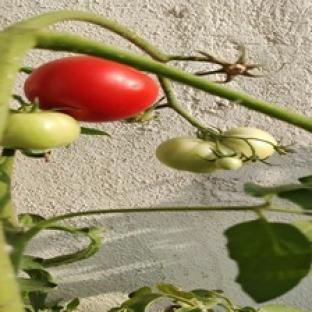Tomato: (24, 56, 158, 122), (0, 112, 80, 150), (156, 137, 217, 172), (221, 127, 277, 161), (215, 158, 243, 169)
